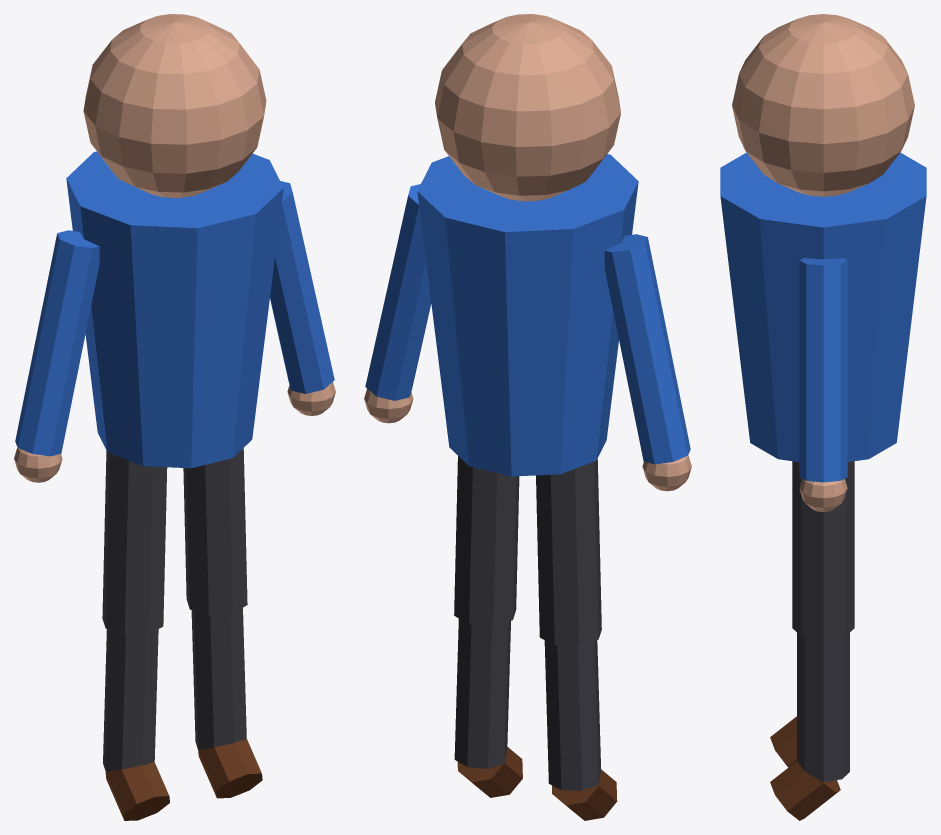
File: human.obj
The picture shows the model from 3 angles, left to right: view 1: azimuth 30°, elevation 25°; view 2: azimuth 150°, elevation 25°; view 3: azimuth 270°, elevation 25°; orthographic projection. The views are drawn at different scales.
Visible parts, largest first — view 1: shirt, pants, skin, shoes; view 2: shirt, pants, skin, shoes; view 3: shirt, skin, pants, shoes.
Boxes of the visible parts, x1=… form: shirt: x1=15, y1=151, x2=334, y2=468; pants: x1=102, y1=448, x2=247, y2=771; skin: x1=14, y1=14, x2=335, y2=482; shoes: x1=105, y1=739, x2=262, y2=820; shirt: x1=365, y1=154, x2=690, y2=476; pants: x1=454, y1=456, x2=601, y2=790; skin: x1=364, y1=14, x2=691, y2=491; shoes: x1=457, y1=747, x2=617, y2=820; shirt: x1=720, y1=152, x2=926, y2=482; skin: x1=732, y1=14, x2=914, y2=511; pants: x1=792, y1=461, x2=854, y2=782; shoes: x1=770, y1=716, x2=840, y2=820.
Bounding box in the file's own units: 15 × 35.43 × 8.56.
